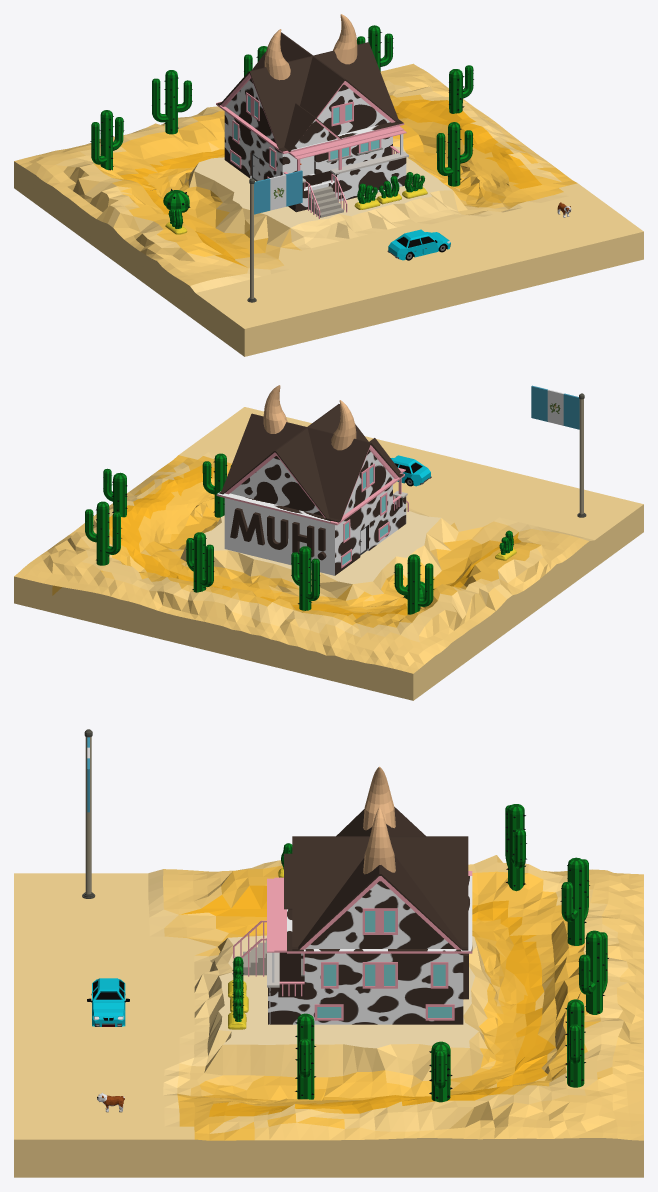
3 renders of one model, top to bottom at view 1: azimuth 30°, elevation 25°; view 2: azimuth 150°, elevation 25°; view 3: azimuth 270°, elevation 25°, orthographic. The views are drawn at different scales.
Parts seen in each view (by area): view 1: Cube.001, Cube.1242, OBJRANDOM_GUATEMALAN_FLAG, Cylinder.044, Cylinder.037, Cylinder.045, VEHICLES_CAR, Cylinder.038, Cylinder.042, Cylinder.039, Cylinder.041; view 2: Cube.001, Cube.1242, OBJRANDOM_GUATEMALAN_FLAG, Cylinder.042, Cylinder.045, Cylinder.044, Cylinder.043, Cylinder.037, Cylinder.038, VEHICLES_CAR; view 3: Cube.001, Cube.1242, Cylinder.044, Cylinder.043, VEHICLES_CAR, Cylinder.045, Cylinder.042, Cylinder.037, OBJRANDOM_GUATEMALAN_FLAG, Cylinder.038.
Boxes of the visible parts, x1,y1,x2,y2 form: Cube.001: (14,63,643,356); Cube.1242: (216,14,408,218); OBJRANDOM_GUATEMALAN_FLAG: (247,170,302,302); Cylinder.044: (152,70,192,134); Cylinder.037: (436,122,473,186); Cylinder.045: (90,110,124,170); VEHICLES_CAR: (387,229,450,260); Cylinder.038: (448,65,473,113); Cylinder.042: (357,25,393,71); Cylinder.039: (354,183,380,209); Cylinder.041: (402,172,427,198); Cube.001: (14,407,643,700); Cube.1242: (216,385,408,575); OBJRANDOM_GUATEMALAN_FLAG: (531,385,586,517); Cylinder.042: (85,501,121,565); Cylinder.045: (394,554,434,614); Cylinder.044: (291,546,319,610); Cylinder.043: (186,532,214,592); Cylinder.037: (202,453,231,517); Cylinder.038: (103,468,127,517); VEHICLES_CAR: (391,455,431,486); Cube.001: (14,855,643,1177); Cube.1242: (233,766,472,1024); Cylinder.044: (560,857,589,945); Cylinder.043: (578,930,608,1014); VEHICLES_CAR: (87,978,129,1026); Cylinder.045: (505,804,526,891); Cylinder.042: (565,999,585,1087); Cylinder.037: (295,1013,315,1099); OBJRANDOM_GUATEMALAN_FLAG: (82,729,95,898); Cylinder.038: (429,1041,452,1102).
Size of the model in its own units: 4002 by 1886 by 4001.
43 materials, 2 textured.
